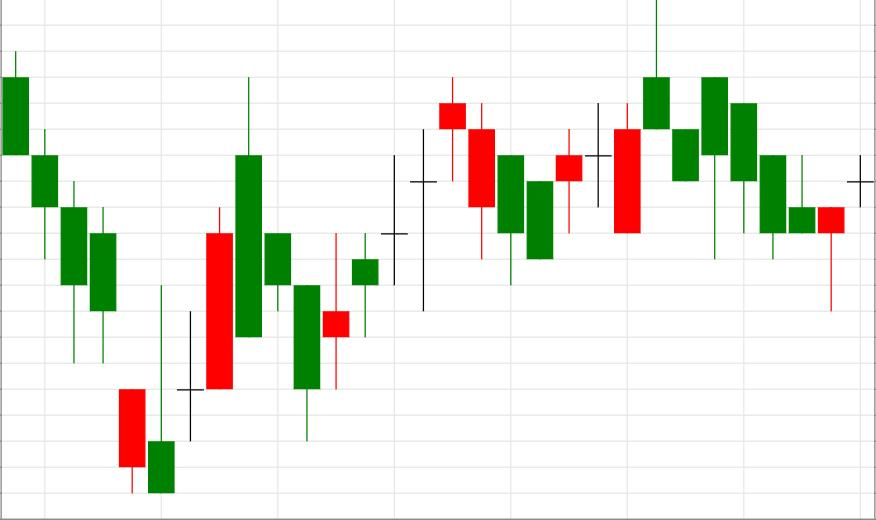hammer_rise: (644, 0, 845, 311)
inverse_hammer_rise: (2, 51, 175, 493)
